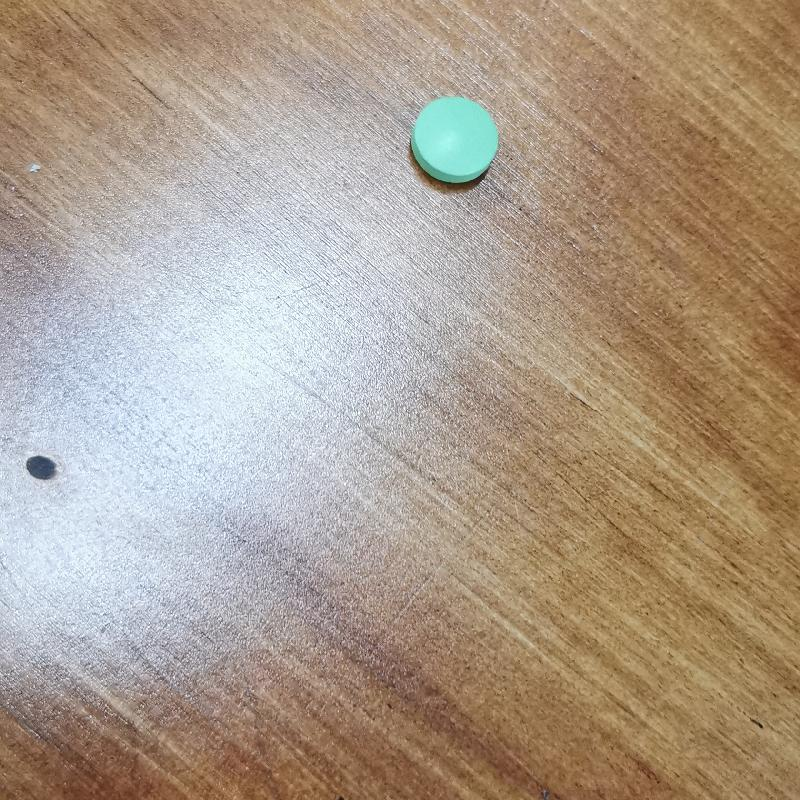pills: (395, 82, 510, 203)
